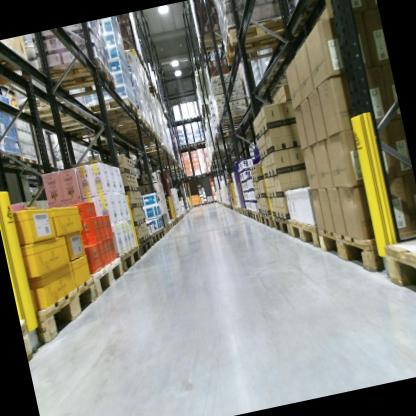pallet: (315, 210, 400, 282), (29, 276, 106, 349), (217, 11, 297, 70), (38, 52, 118, 105), (379, 236, 416, 315), (16, 86, 82, 127), (85, 93, 141, 129), (0, 36, 35, 89), (87, 255, 128, 298), (288, 213, 324, 254), (103, 108, 148, 137), (111, 119, 155, 144), (194, 28, 226, 56), (213, 110, 249, 132), (122, 135, 162, 153), (19, 317, 35, 361), (118, 246, 143, 273), (271, 210, 293, 239), (119, 132, 159, 147), (0, 144, 23, 165), (213, 127, 244, 141), (136, 235, 154, 256), (258, 210, 276, 230), (143, 144, 168, 156), (22, 151, 39, 167), (148, 229, 161, 245), (251, 208, 261, 225), (155, 226, 166, 241), (146, 80, 157, 93), (246, 205, 254, 220), (168, 218, 176, 228), (163, 223, 170, 234), (241, 207, 248, 217), (237, 205, 243, 214), (234, 204, 239, 213), (194, 172, 201, 178), (231, 203, 236, 211), (185, 174, 193, 179), (168, 221, 173, 229), (174, 216, 179, 223), (201, 171, 209, 175)
